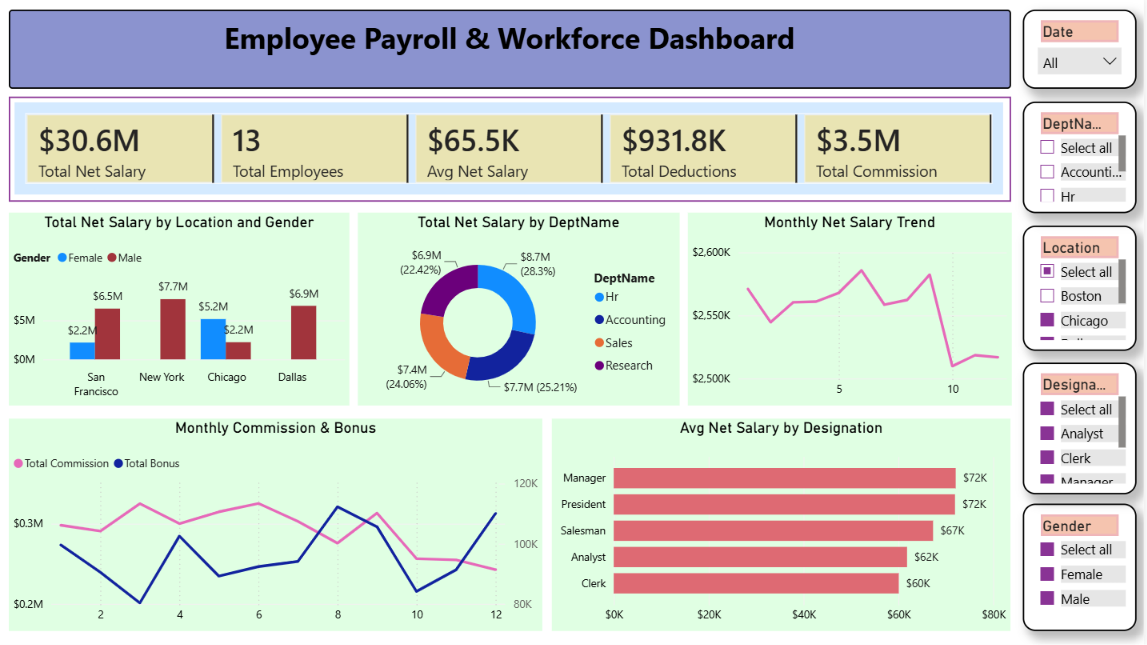

The dashboard page shown, as its layout file describes it:
{"tool":"powerbi","page":{"name":"Page 1","canvas":[1280,720],"ordinal":0},"visuals":[{"type":"cardVisual","fields":{"Data":["Fact Sales.Total Net Salary","Fact Sales.Total Employees","Fact Sales.Avg Net Salary","Fact Sales.Total Deductions","Fact Sales.Total Commission"]},"box":[17.9,109.6,1113.5,116.7],"z":0},{"type":"slicer","fields":{"Values":["Dim Calender.Date"]},"box":[1144.5,13.1,126.2,88.1],"z":1000},{"type":"slicer","fields":{"Values":["Dim Department.Location"]},"box":[1144.5,253.7,126.2,139.3],"z":2000},{"type":"slicer","fields":{"Values":["Dim Department.DeptName"]},"box":[1144.5,115.5,126.2,123.9],"z":3000},{"type":"slicer","fields":{"Values":["Dim Employee.Gender"]},"box":[1144.5,562.1,126.2,141.7],"z":4000},{"type":"slicer","fields":{"Values":["Dim Employee.Designation"]},"box":[1144.5,406.1,126.2,146.5],"z":5000},{"type":"clusteredBarChart","fields":{"Category":["Dim Employee.Designation"],"Y":["Fact Sales.Avg Net Salary"]},"box":[621.7,468,509.7,235.8],"z":6000},{"type":"clusteredColumnChart","fields":{"Category":["Dim Department.Location"],"Y":["Fact Sales.Total Net Salary"],"Series":["Dim Employee.Gender"]},"box":[17.7,239,378.3,214.1],"z":7000},{"type":"donutChart","fields":{"Category":["Dim Department.DeptName"],"Y":["Fact Sales.Total Net Salary"]},"box":[406.1,239.4,357.3,214.4],"z":8000},{"type":"textbox","box":[17.9,13.1,1113.5,88.1],"z":9000},{"type":"lineChart","title":"Monthly Commission & Bonus","fields":{"Y":["Fact Sales.Total Commission"],"Category":["Dim Calender.MONTH"],"Y2":["Fact Sales.Total Bonus"]},"box":[17.9,468,593.1,235.8],"z":10000},{"type":"lineChart","title":"Monthly Net Salary Trend","fields":{"Category":["Dim Calender.MONTH"],"Y":["Fact Sales.Total Net Salary"]},"box":[771.7,239.4,359.7,214.4],"z":11000}]}

Visuals, with their boxes in screenshot pixels (x1, y1, x2, y2), scaled from the page's 1280x720 canvas onto the 1147x645 screenshot:
cardVisual - Fact Sales.Total Net Salary x Fact Sales.Total Employees: BBox(16, 98, 1014, 203)
slicer - Dim Calender.Date: BBox(1026, 12, 1139, 91)
slicer - Dim Department.Location: BBox(1026, 227, 1139, 352)
slicer - Dim Department.DeptName: BBox(1026, 103, 1139, 214)
slicer - Dim Employee.Gender: BBox(1026, 504, 1139, 630)
slicer - Dim Employee.Designation: BBox(1026, 364, 1139, 495)
clusteredBarChart - Dim Employee.Designation x Fact Sales.Avg Net Salary: BBox(557, 419, 1014, 630)
clusteredColumnChart - Dim Department.Location x Fact Sales.Total Net Salary: BBox(16, 214, 355, 406)
donutChart - Dim Department.DeptName x Fact Sales.Total Net Salary: BBox(364, 214, 684, 407)
textbox: BBox(16, 12, 1014, 91)
"Monthly Commission & Bonus" lineChart: BBox(16, 419, 548, 630)
"Monthly Net Salary Trend" lineChart: BBox(692, 214, 1014, 407)
